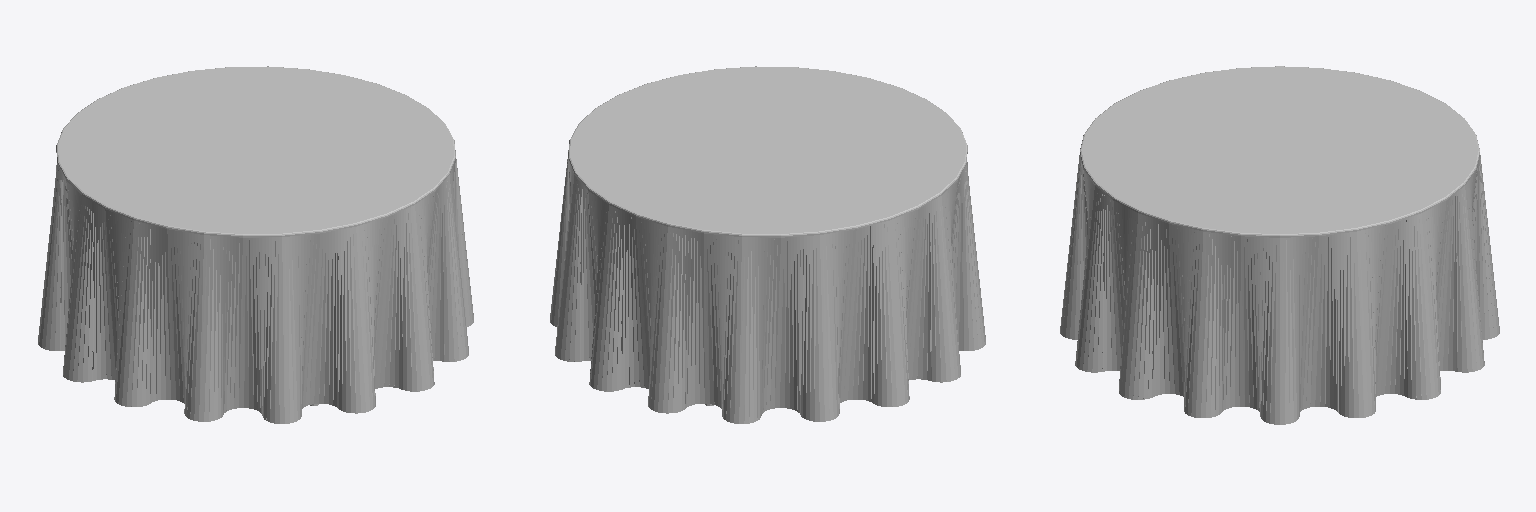
File: TableCloth.obj
The picture shows the model from 3 angles: view 1: azimuth 30°, elevation 25°; view 2: azimuth 150°, elevation 25°; view 3: azimuth 270°, elevation 25°; orthographic projection.
Visible parts, largest first — view 1: Group9_3_003, Group9_3_004, Group9_3_002, Group9_3_001; view 2: Group9_3_002, Group9_3_001, Group9_3_003, Group9_3_004; view 3: Group9_3_001, Group9_3_004, Group9_3_003, Group9_3_002.
Part boxes in pixels (left/top/right/bottom): Group9_3_003: left=65, top=150, right=365, bottom=423; Group9_3_004: left=256, top=108, right=473, bottom=411; Group9_3_002: left=38, top=78, right=254, bottom=377; Group9_3_001: left=157, top=66, right=426, bottom=149; Group9_3_002: left=658, top=150, right=958, bottom=423; Group9_3_001: left=550, top=108, right=767, bottom=411; Group9_3_003: left=769, top=78, right=985, bottom=377; Group9_3_004: left=597, top=66, right=866, bottom=149; Group9_3_001: left=1280, top=150, right=1499, bottom=424; Group9_3_004: left=1060, top=150, right=1279, bottom=424; Group9_3_003: left=1080, top=66, right=1279, bottom=150; Group9_3_002: left=1280, top=66, right=1479, bottom=150.
Size of the model in its own units: 52.77 by 27.95 by 52.77.